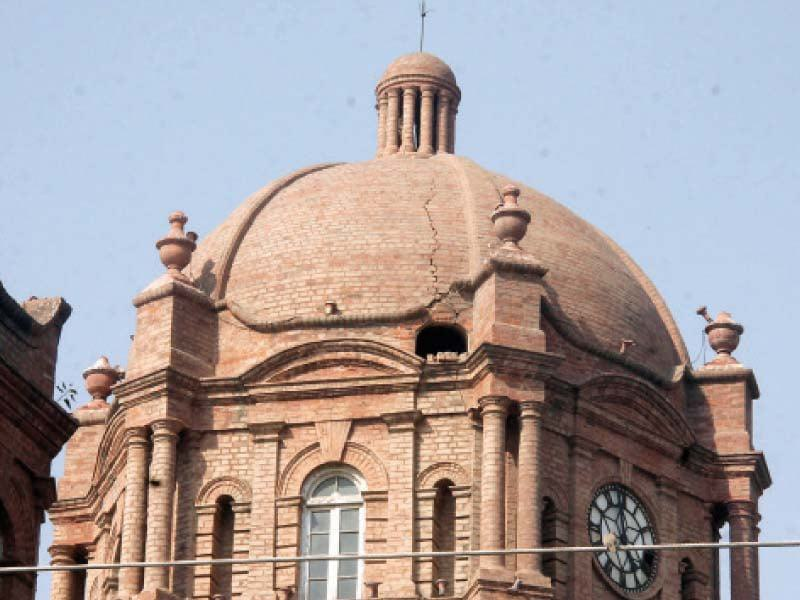crack: (419, 185, 448, 243), (422, 253, 449, 298)
